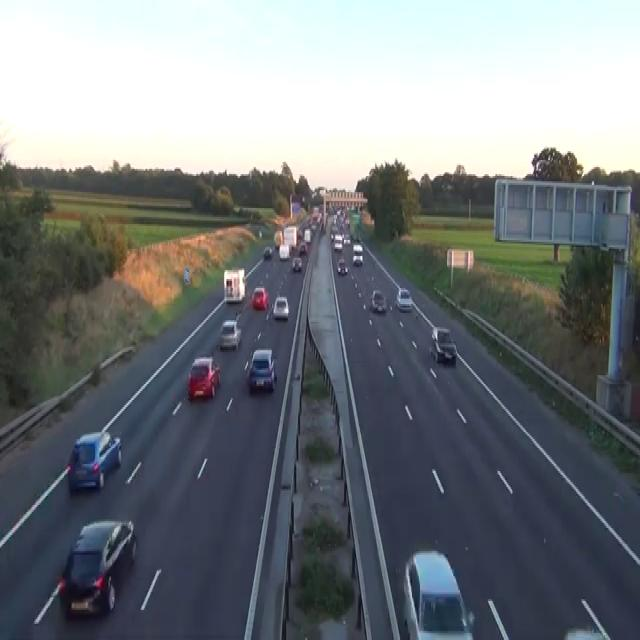Car: (58, 517, 137, 619), (402, 548, 474, 638), (66, 430, 122, 491), (561, 598, 612, 638), (186, 356, 220, 400), (246, 349, 277, 391), (430, 325, 457, 363), (219, 318, 241, 350), (562, 624, 607, 638), (272, 295, 289, 320), (251, 286, 268, 310), (396, 286, 412, 311), (370, 290, 386, 313), (352, 243, 363, 265), (337, 256, 348, 276), (278, 243, 289, 260), (292, 256, 302, 272), (333, 234, 343, 250), (330, 226, 338, 242), (263, 246, 272, 260), (299, 240, 306, 254), (343, 233, 350, 245), (352, 244, 362, 252), (296, 226, 302, 238), (344, 215, 349, 226), (330, 229, 334, 240), (258, 230, 262, 238)
Truck: (223, 268, 245, 302), (283, 226, 297, 247)
